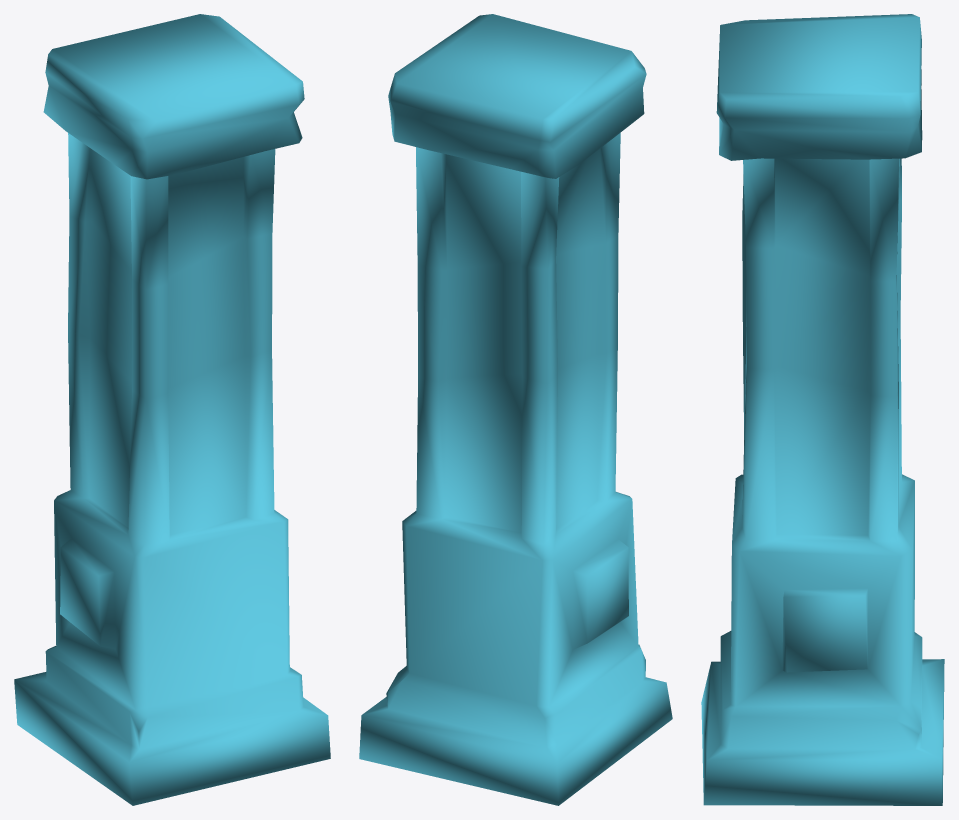
File: column_01.FBX
3 views of the same model, side by side, from view 1: azimuth 30°, elevation 25°; view 2: azimuth 150°, elevation 25°; view 3: azimuth 270°, elevation 25° (orthographic). The views are drawn at different scales.
Visible parts, largest first — view 1: column_01; view 2: column_01; view 3: column_01.
Boxes of the visible parts, <box> form: column_01: <box>14,14,330,805</box>; column_01: <box>359,14,672,805</box>; column_01: <box>701,14,944,805</box>.
Bounding box in the file's own units: 36.05 × 116 × 36.57.
